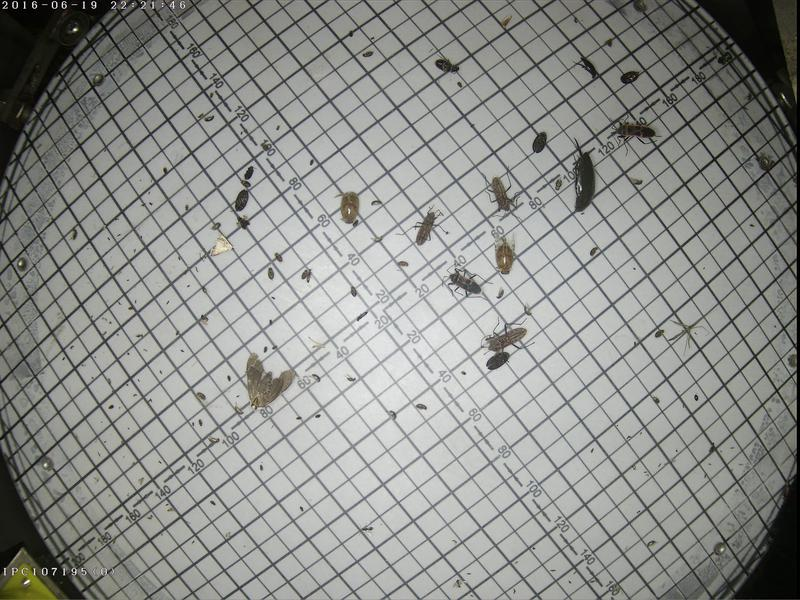Rice Leaf Roller: (209, 230, 230, 253)
